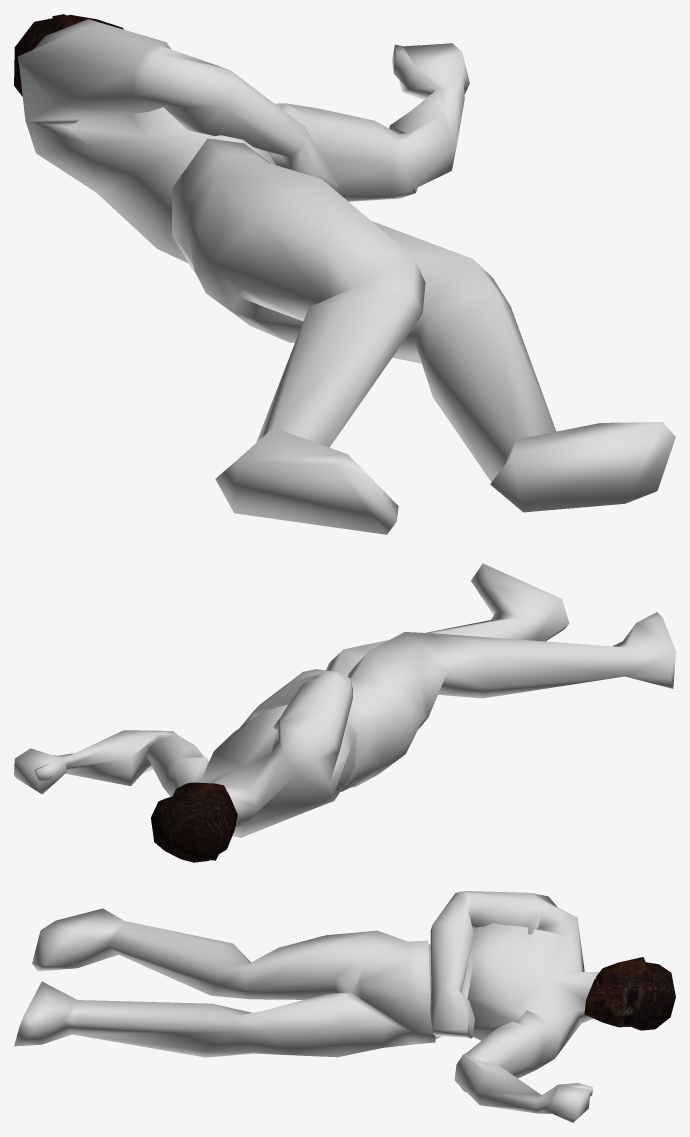
The model's file is KM_CITYONFIRE_CORPSE_BURN_04.glb.
The picture shows the model from 3 angles, top to bottom: view 1: azimuth 30°, elevation 25°; view 2: azimuth 150°, elevation 25°; view 3: azimuth 270°, elevation 25°; orthographic projection. The views are drawn at different scales.
Visible parts, largest first — view 1: Mesh; view 2: Mesh; view 3: Mesh.
Boxes of the visible parts, <box> form: Mesh: <box>14,14,675,534</box>; Mesh: <box>14,563,675,862</box>; Mesh: <box>14,891,675,1122</box>.
Bounding box in the file's own units: 1.2 × 0.4436 × 1.84.
2 materials, 1 textured.
